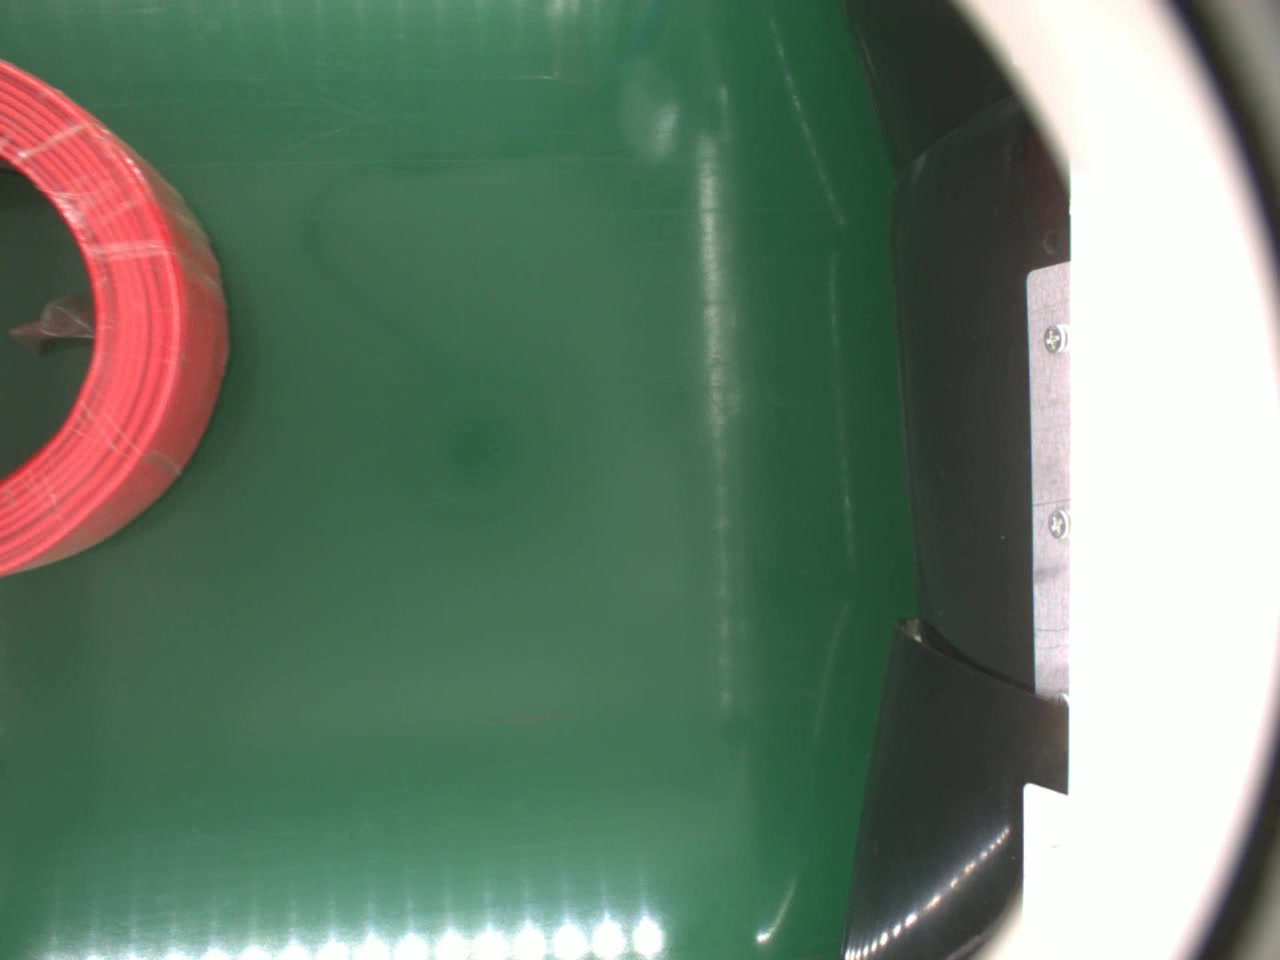red: (0, 61, 230, 583)
